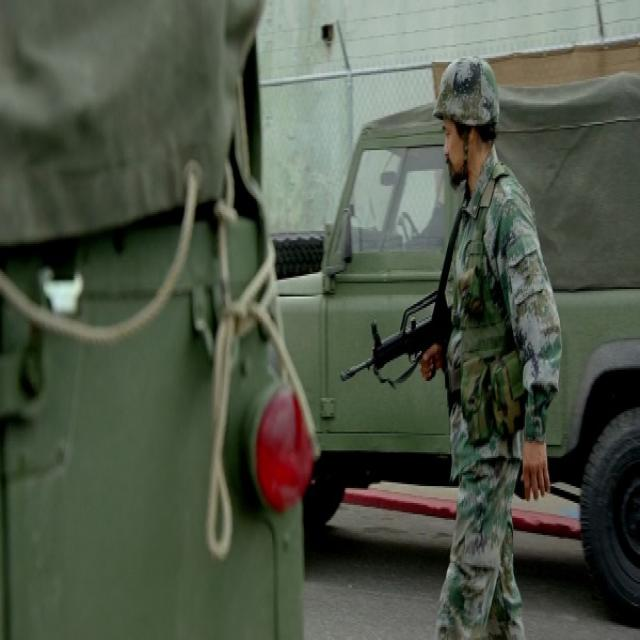rifle: (339, 289, 457, 395)
